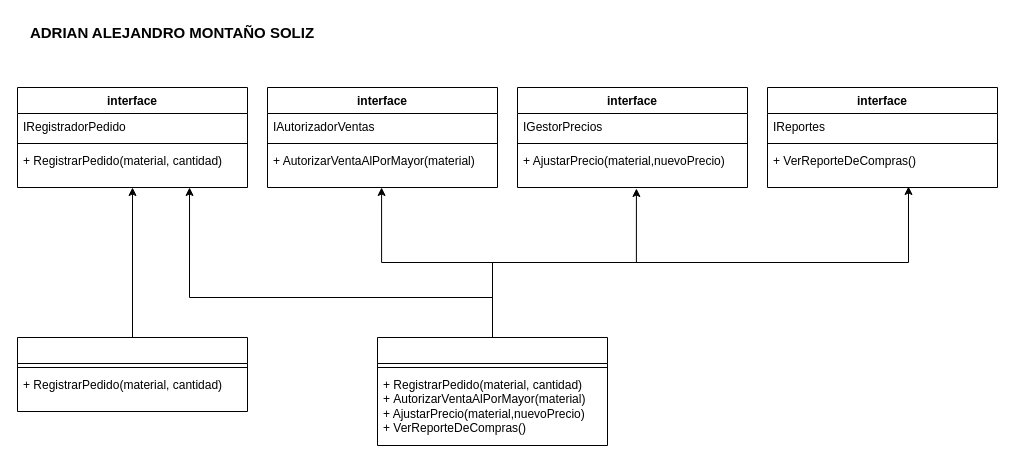
Some shapes in this 1015 by 465 pixel diagram are drawn without their labels. The shapes that lost their labels are listed below. From the top down, each one's box as (x1, y1, x2, y2) in pixels, then its label:
(16, 336, 248, 412): VENDEDOR
(376, 336, 608, 446): ENCARGADO
